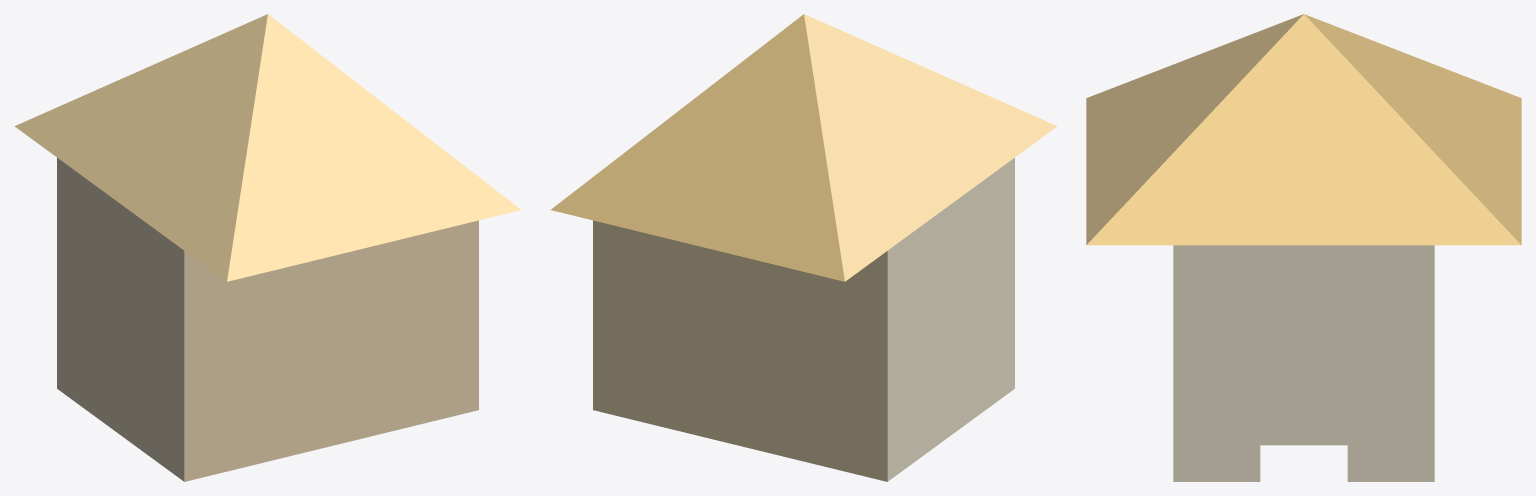
File: TopCastle.fbx
3 renders of one model, left to right at view 1: azimuth 30°, elevation 25°; view 2: azimuth 150°, elevation 25°; view 3: azimuth 270°, elevation 25°, orthographic. The views are drawn at different scales.
Parts seen in each view (by area): view 1: TopCastle; view 2: TopCastle; view 3: TopCastle.
Boxes of the visible parts, <box> form: TopCastle: <box>14,14,520,481</box>; TopCastle: <box>551,14,1057,481</box>; TopCastle: <box>1086,14,1521,481</box>.
Size of the model in its own units: 4 by 5 by 5.
